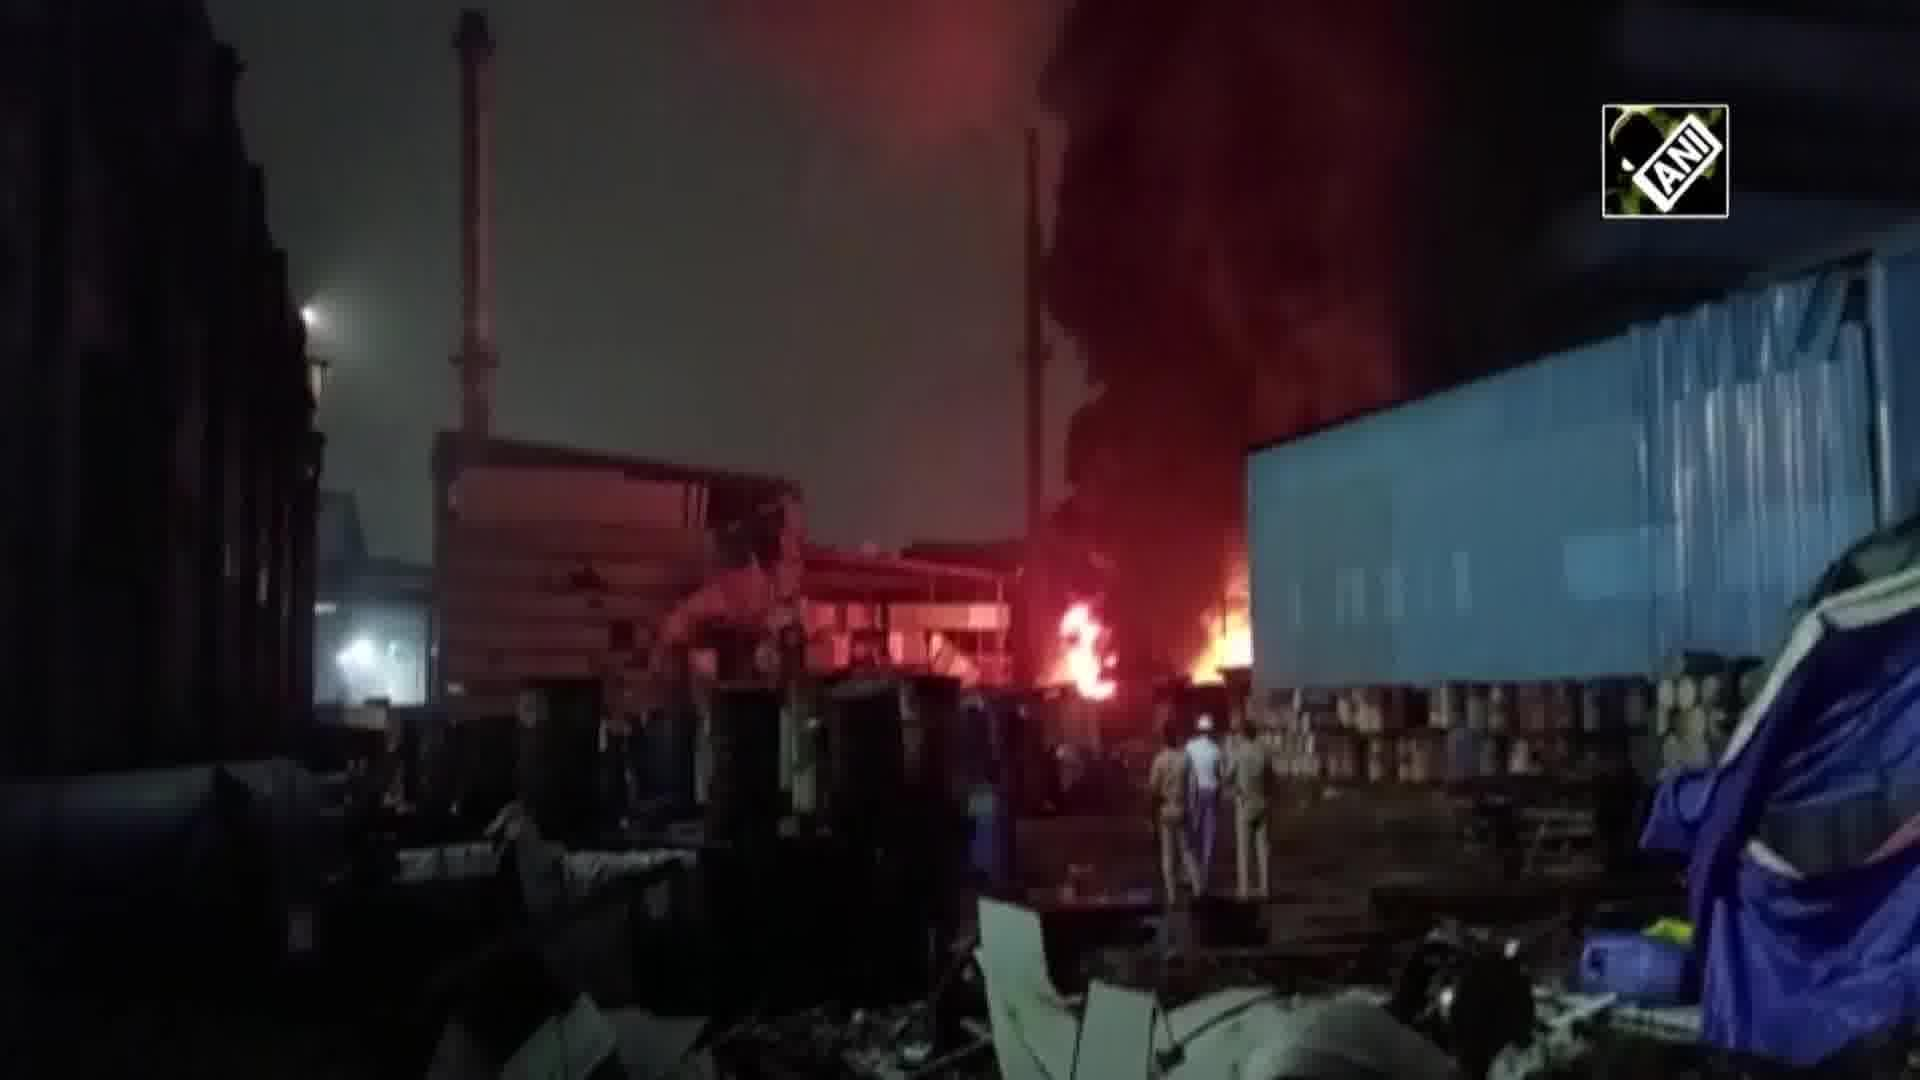fire: (1055, 608, 1112, 687), (1200, 585, 1246, 678)
